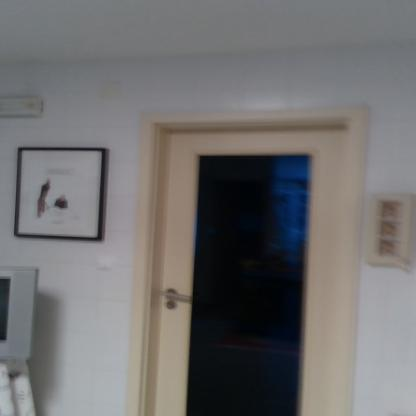door: (158, 130, 352, 415)
lever: (156, 284, 198, 306)
